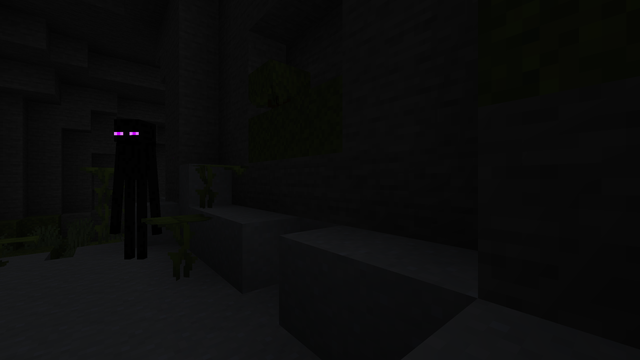endermens: (116, 112, 154, 264)
